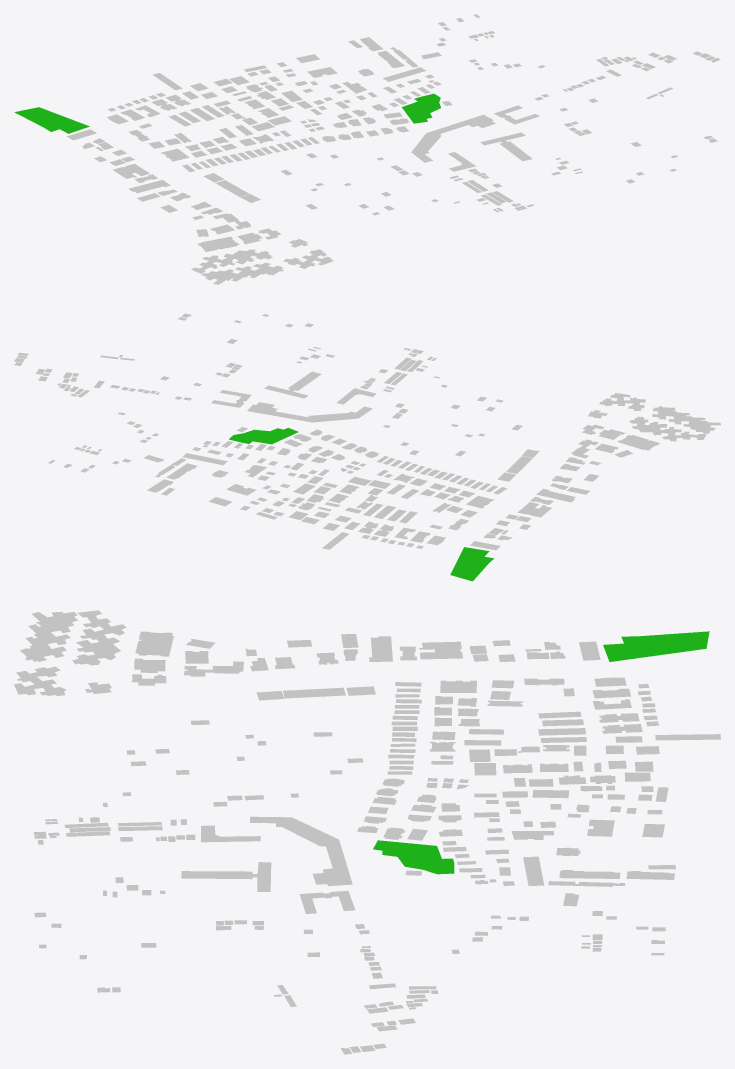
The picture shows the model from 3 angles, top to bottom: view 1: azimuth 30°, elevation 25°; view 2: azimuth 150°, elevation 25°; view 3: azimuth 270°, elevation 25°; orthographic projection. The views are drawn at different scales.
Parts seen in each view (by area): view 1: map_2.osm_buildings, map_2.osm_vegetation, map_2.osm_buildings.001, map_2.osm_buildings.002; view 2: map_2.osm_buildings, map_2.osm_vegetation, map_2.osm_buildings.001, map_2.osm_buildings.002; view 3: map_2.osm_buildings, map_2.osm_vegetation, map_2.osm_buildings.001, map_2.osm_buildings.002.
Boxes of the visible parts, x1=… form: map_2.osm_buildings: x1=67, y1=14, x2=720, y2=284; map_2.osm_vegetation: x1=14, y1=93, x2=440, y2=133; map_2.osm_buildings.001: x1=411, y1=105, x2=539, y2=162; map_2.osm_buildings.002: x1=448, y1=132, x2=532, y2=171; map_2.osm_buildings: x1=14, y1=313, x2=720, y2=550; map_2.osm_vegetation: x1=229, y1=427, x2=493, y2=581; map_2.osm_buildings.001: x1=211, y1=390, x2=372, y2=422; map_2.osm_buildings.002: x1=264, y1=371, x2=376, y2=404; map_2.osm_buildings: x1=14, y1=610, x2=720, y2=1054; map_2.osm_vegetation: x1=373, y1=631, x2=709, y2=874; map_2.osm_buildings.001: x1=250, y1=816, x2=355, y2=913; map_2.osm_buildings.002: x1=181, y1=825, x2=271, y2=891.
Size of the model in its own units: 895 by 0.2 by 602.
